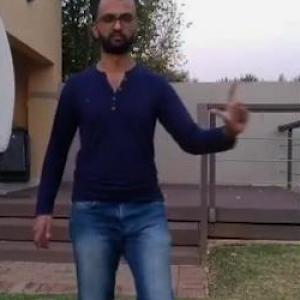land_hand: (202, 76, 255, 142)
